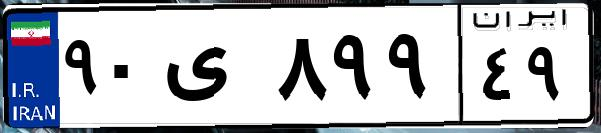0: (110, 28, 158, 98)
4: (475, 38, 525, 113)
8: (270, 28, 330, 110)
9: (385, 28, 445, 110), (330, 28, 385, 110), (57, 26, 110, 100), (525, 38, 570, 115)
ی: (158, 20, 270, 120)
